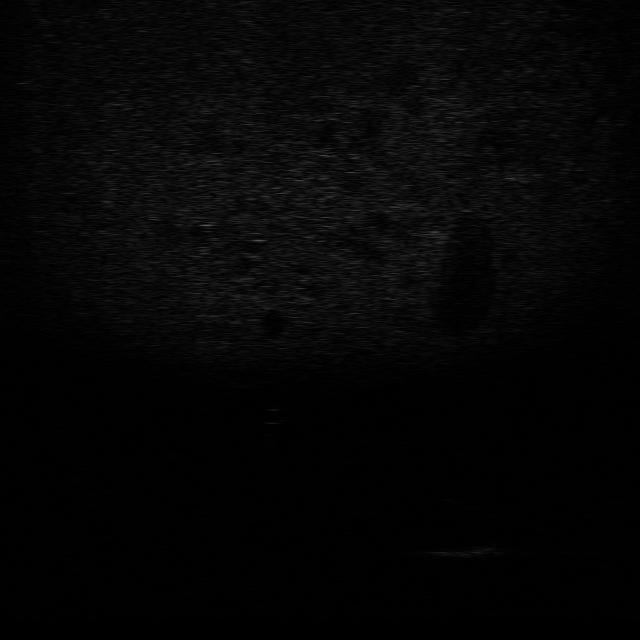ball: (255, 405, 294, 427)
metal bucket: (419, 543, 510, 562)
tyre: (438, 489, 508, 516)
